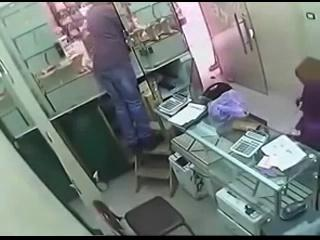Normal: (85, 3, 162, 152)
